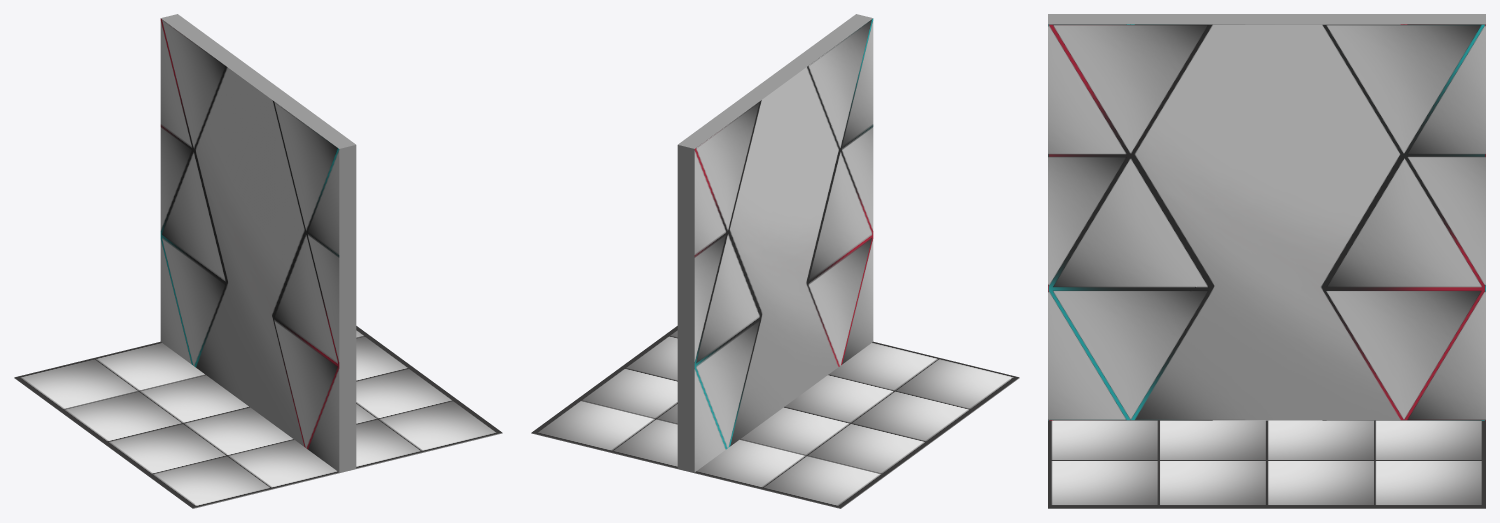
The model's file is straightwall.fbx.
3 renders of one model, left to right at view 1: azimuth 30°, elevation 25°; view 2: azimuth 150°, elevation 25°; view 3: azimuth 270°, elevation 25°, orthographic. The views are drawn at different scales.
Visible parts, largest first — view 1: polySurface586; view 2: polySurface586; view 3: polySurface586.
Boxes of the visible parts, x1,y1,x2,y2 form: polySurface586: (14, 14, 502, 508); polySurface586: (531, 14, 1019, 508); polySurface586: (1048, 14, 1485, 508).
Size of the model in its own units: 2 by 2 by 2.
